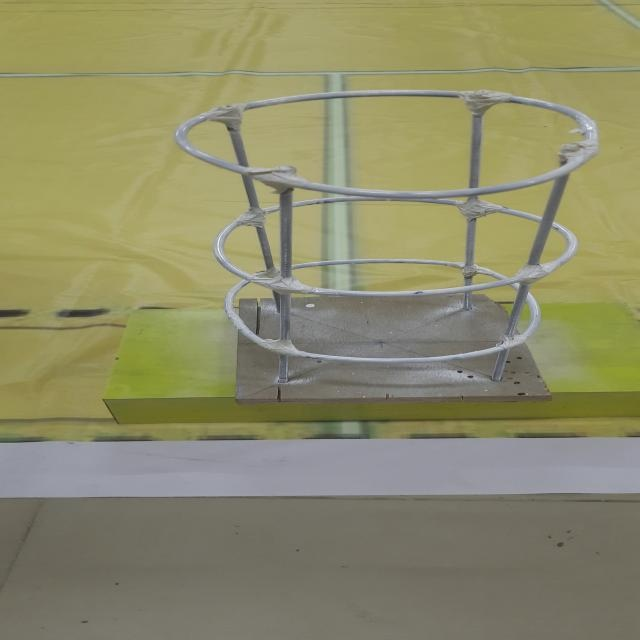silo: (150, 78, 618, 413)
